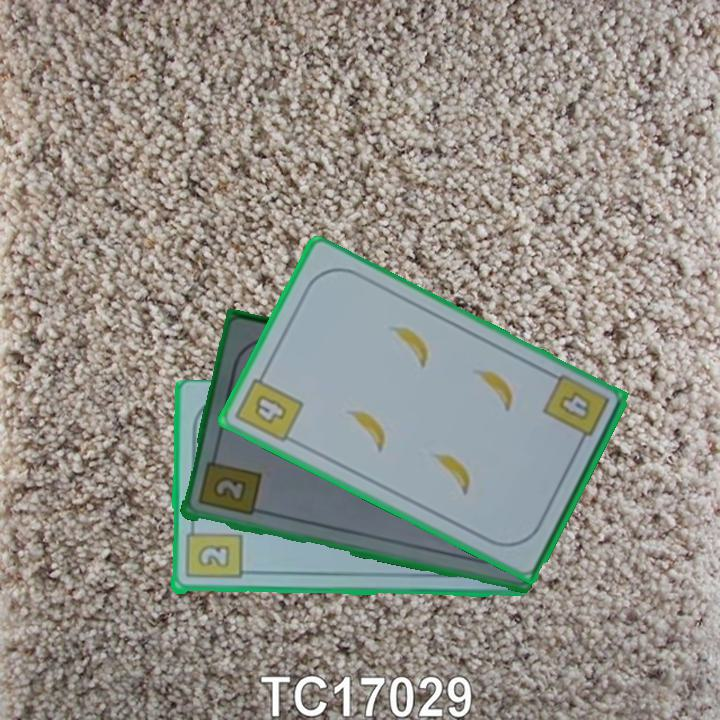2b: (194, 450, 263, 519), (182, 520, 244, 583)
4b: (231, 366, 307, 446), (539, 374, 612, 451)
